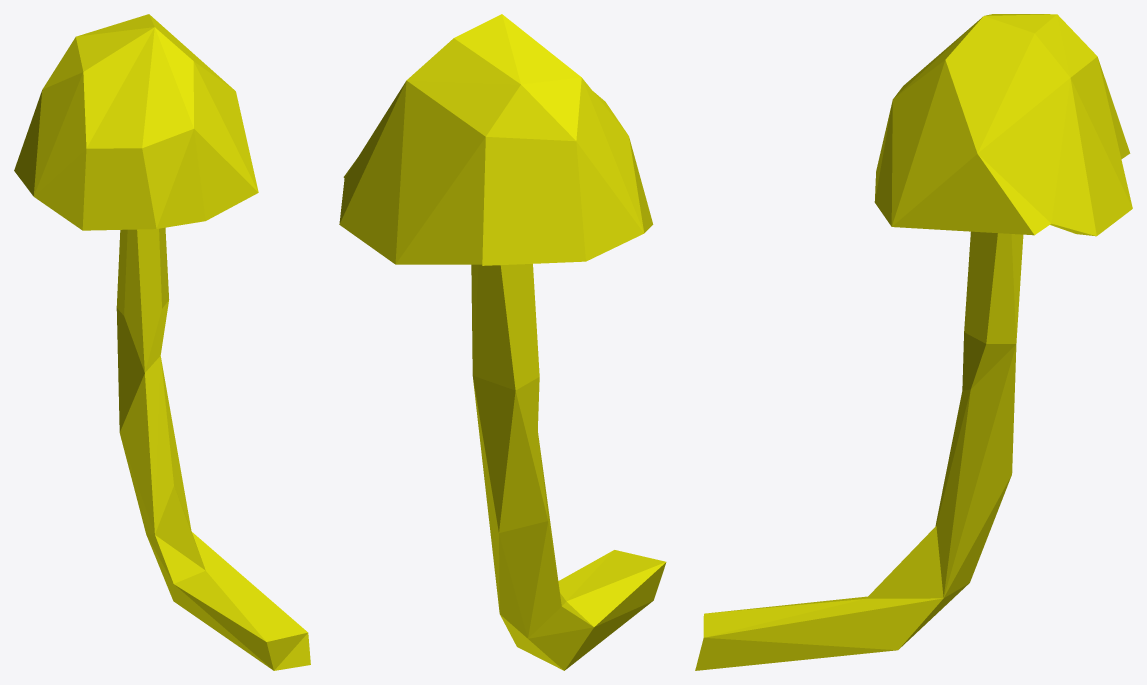
The model's file is SM_Prop_Mushroom_02.glb.
3 views of the same model, side by side, from view 1: azimuth 30°, elevation 25°; view 2: azimuth 150°, elevation 25°; view 3: azimuth 270°, elevation 25° (orthographic). The views are drawn at different scales.
Visible parts, largest first — view 1: SM_Prop_Mushroom_02; view 2: SM_Prop_Mushroom_02; view 3: SM_Prop_Mushroom_02.
Boxes of the visible parts, left/top/right/bottom form: SM_Prop_Mushroom_02: left=14, top=14, right=310, bottom=670; SM_Prop_Mushroom_02: left=339, top=14, right=666, bottom=670; SM_Prop_Mushroom_02: left=695, top=14, right=1132, bottom=670.
Size of the model in its own units: 0.104 by 0.2493 by 0.1545.
